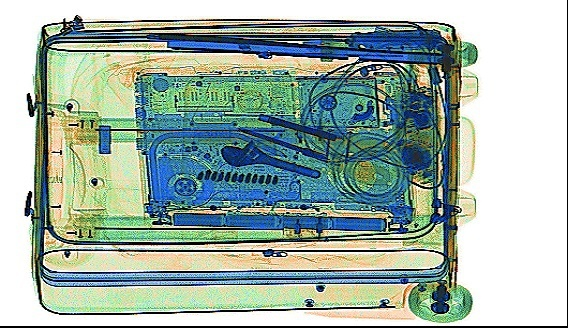knife: (342, 25, 443, 53)
